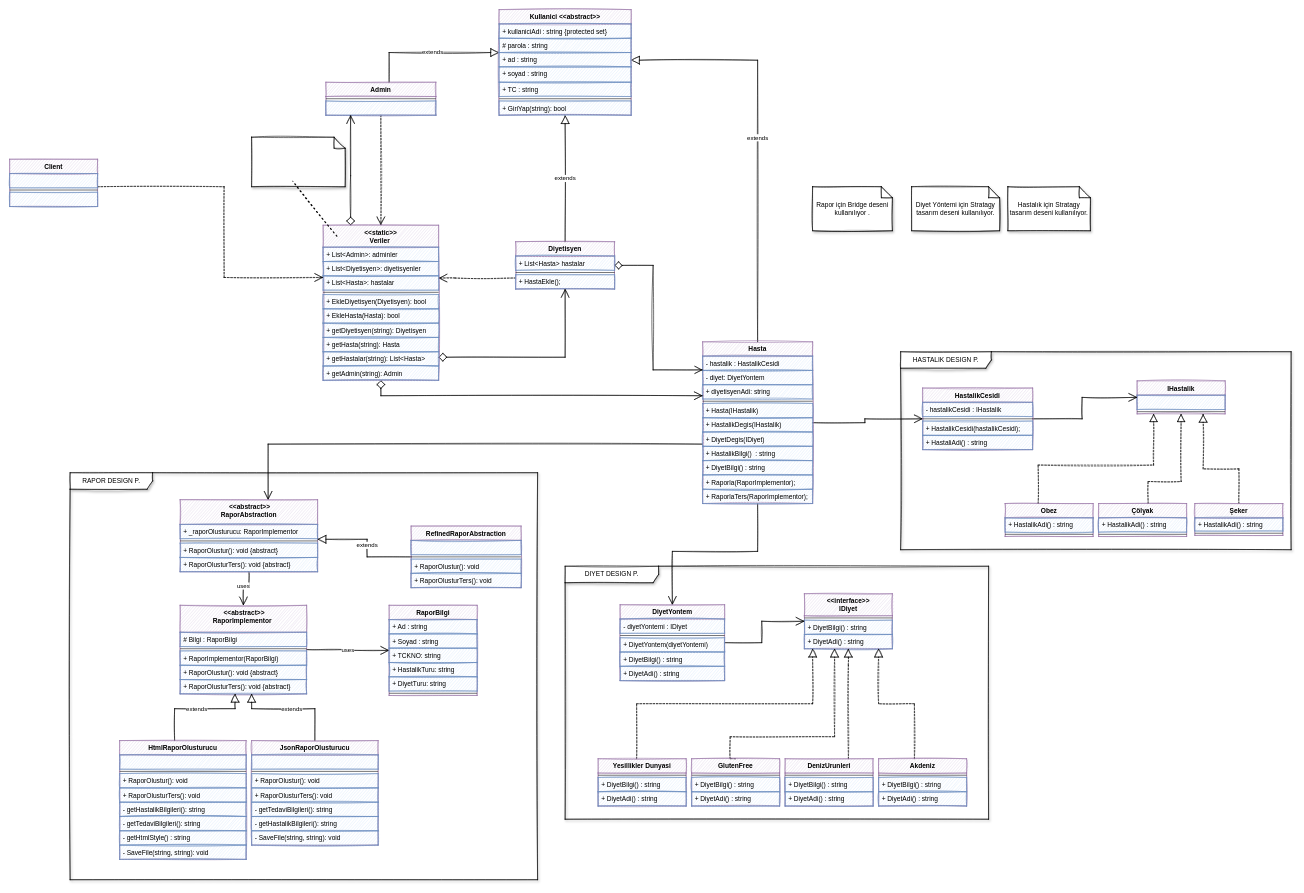
Some shapes in this 1304 by 893 pixel diagram are drawn without their labels. The centre of each missing label's shape, as x and y in pixels:
+ DiyetisyenEkle(): the point at 380,107
+ HastalikAdii() : string: the point at 1181,402
Verileri veritabanından -bu projede runtime'dan- getirir.: the point at 298,162
